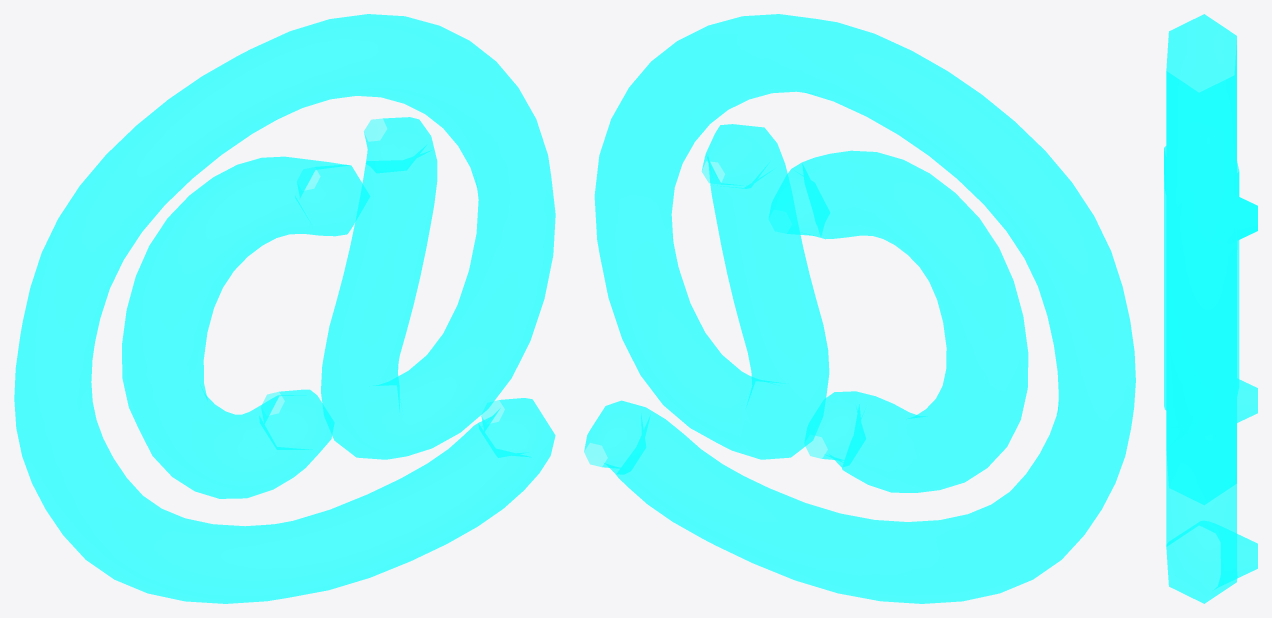
The picture shows the model from 3 angles, left to right: view 1: azimuth 30°, elevation 25°; view 2: azimuth 150°, elevation 25°; view 3: azimuth 270°, elevation 25°; orthographic projection. The views are drawn at different scales.
Parts seen in each view (by area): view 1: neon_symbol_at.001_237.001; view 2: neon_symbol_at.001_237.001; view 3: neon_symbol_at.001_237.001.
Boxes of the visible parts, left/top/right/bottom form: neon_symbol_at.001_237.001: left=14, top=14, right=555, bottom=603; neon_symbol_at.001_237.001: left=584, top=14, right=1135, bottom=603; neon_symbol_at.001_237.001: left=1164, top=14, right=1257, bottom=603.
Size of the model in its own units: 1.02 by 1.03 by 0.168.
